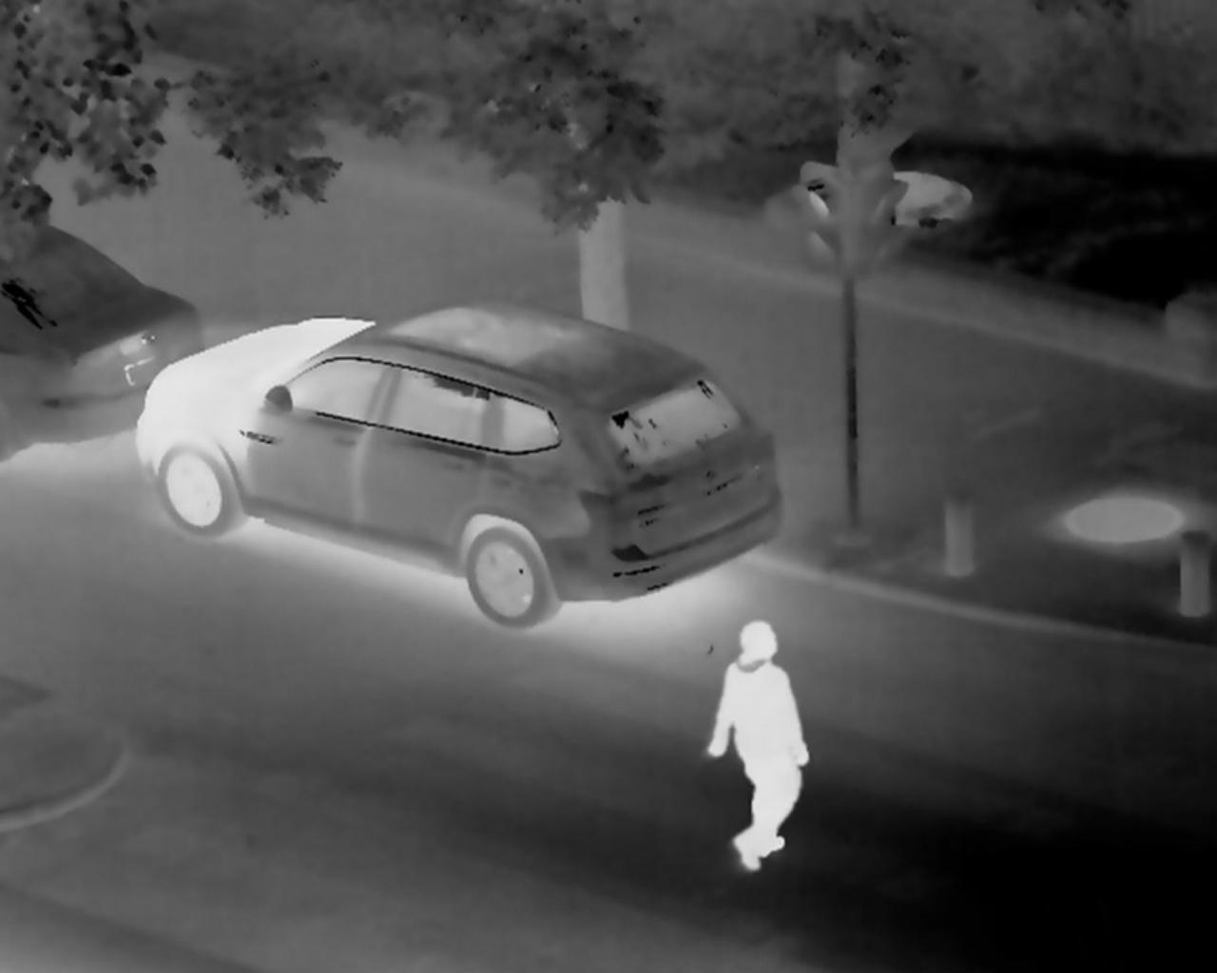person: (683, 594, 821, 884)
